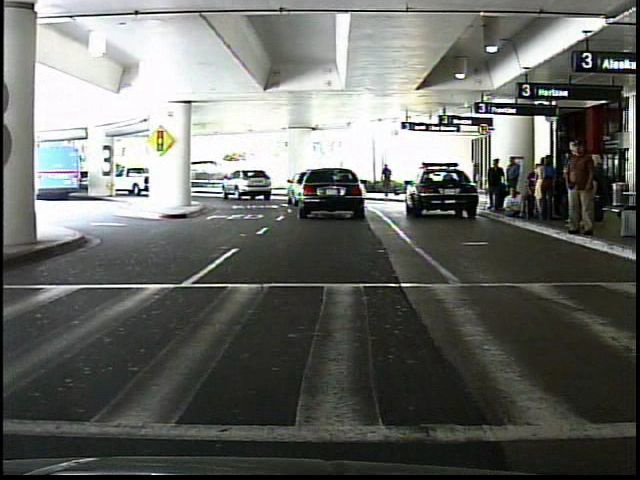person: (562, 138, 601, 241), (483, 159, 506, 216), (381, 164, 395, 198)
